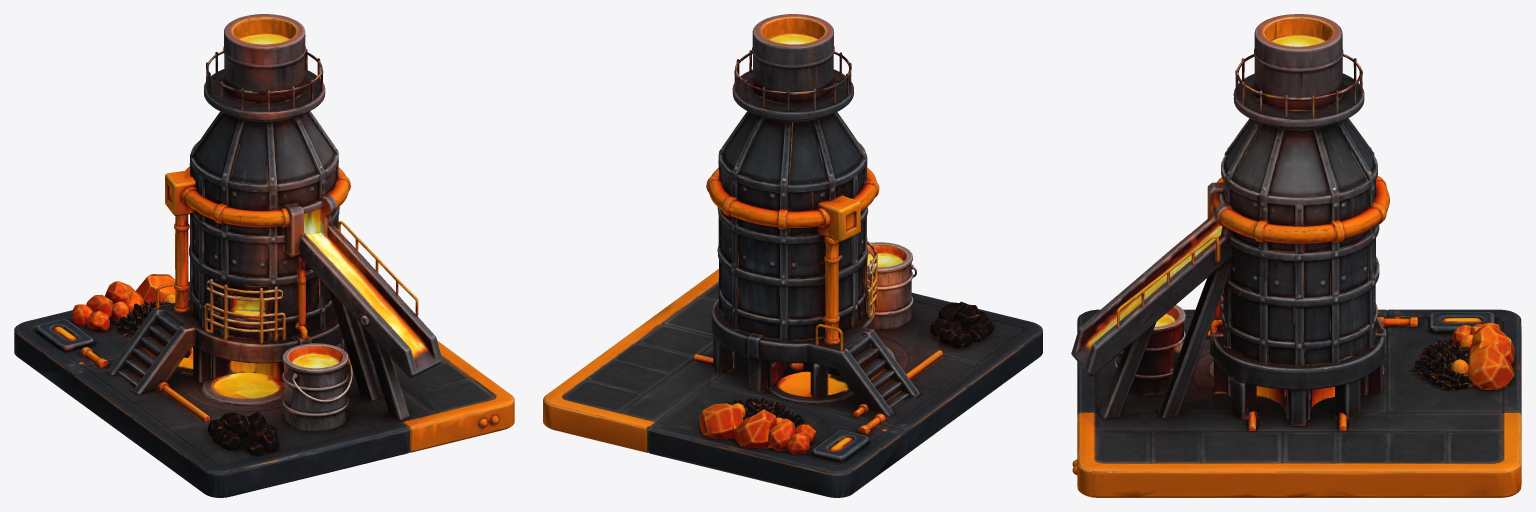
Rendered from furnace.glb.
The picture shows the model from 3 angles, left to right: view 1: azimuth 30°, elevation 25°; view 2: azimuth 150°, elevation 25°; view 3: azimuth 270°, elevation 25°; orthographic projection. The views are drawn at different scales.
Parts seen in each view (by area): view 1: world; view 2: world; view 3: world.
Part boxes in pixels (left/top/right/bottom): world: left=14, top=14, right=514, bottom=497; world: left=543, top=14, right=1042, bottom=497; world: left=1071, top=14, right=1521, bottom=497.
Size of the model in its own units: 1.71 by 1.89 by 2.
Materials: 1 (1 with a texture image).
